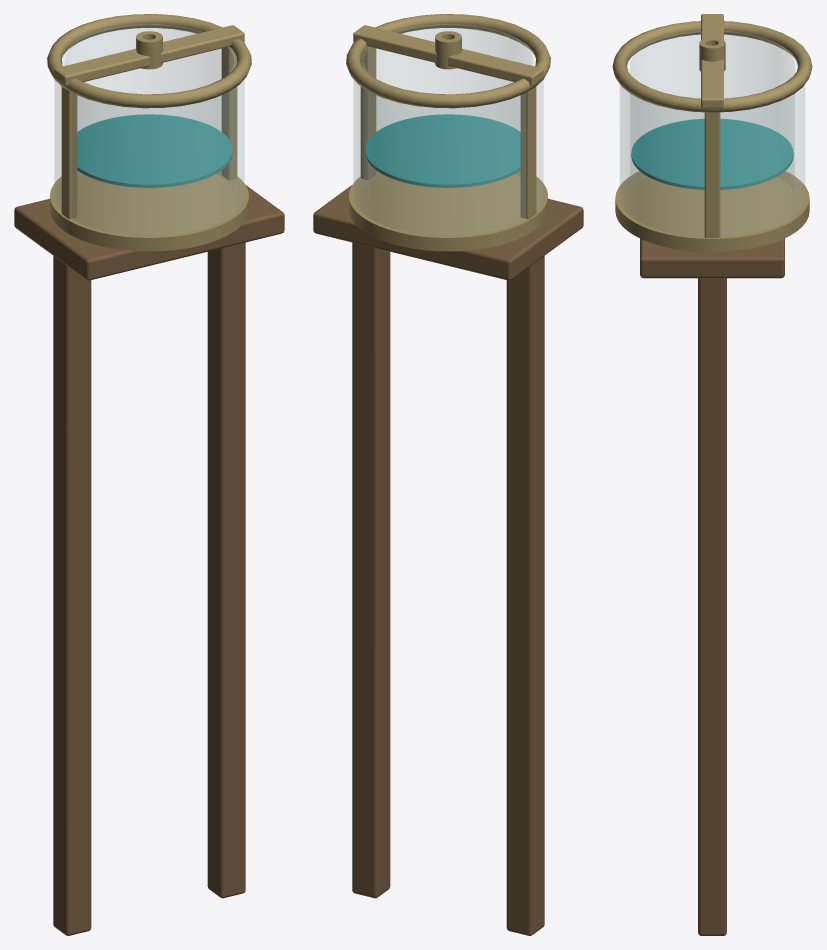
The model's file is water-clock-garden-and-hydraulic-puzzles-float-regulat-be530e39__31924.glb.
3 views of the same model, side by side, from view 1: azimuth 30°, elevation 25°; view 2: azimuth 150°, elevation 25°; view 3: azimuth 270°, elevation 25° (orthographic). The views are drawn at different scales.
Parts seen in each view (by area): view 1: float-regulator-chamber; view 2: float-regulator-chamber; view 3: float-regulator-chamber.
Boxes of the visible parts, x1=… form: float-regulator-chamber: x1=14, y1=14, x2=284, y2=935; float-regulator-chamber: x1=313, y1=14, x2=583, y2=935; float-regulator-chamber: x1=612, y1=14, x2=812, y2=935.
Bounding box in the file's own units: 0.7701 × 3.24 × 0.69.
